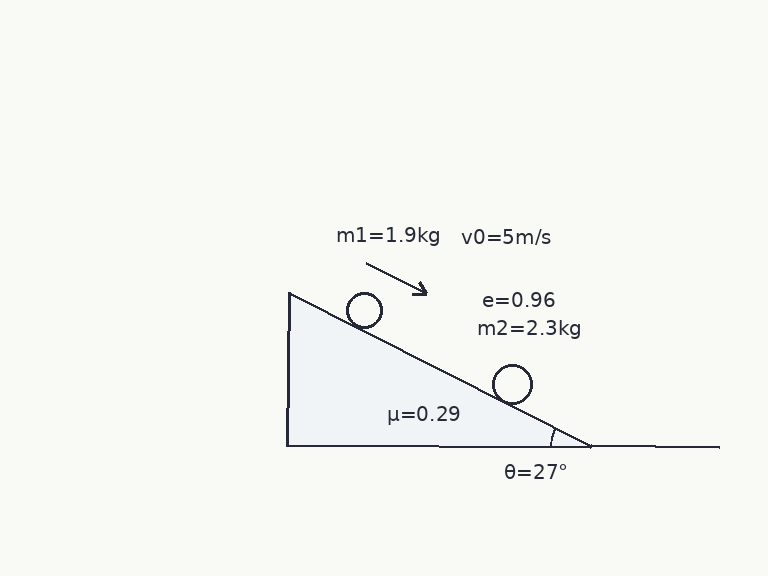ball: (490, 362, 534, 406), (344, 290, 384, 330)
ramp: (286, 290, 593, 448)
